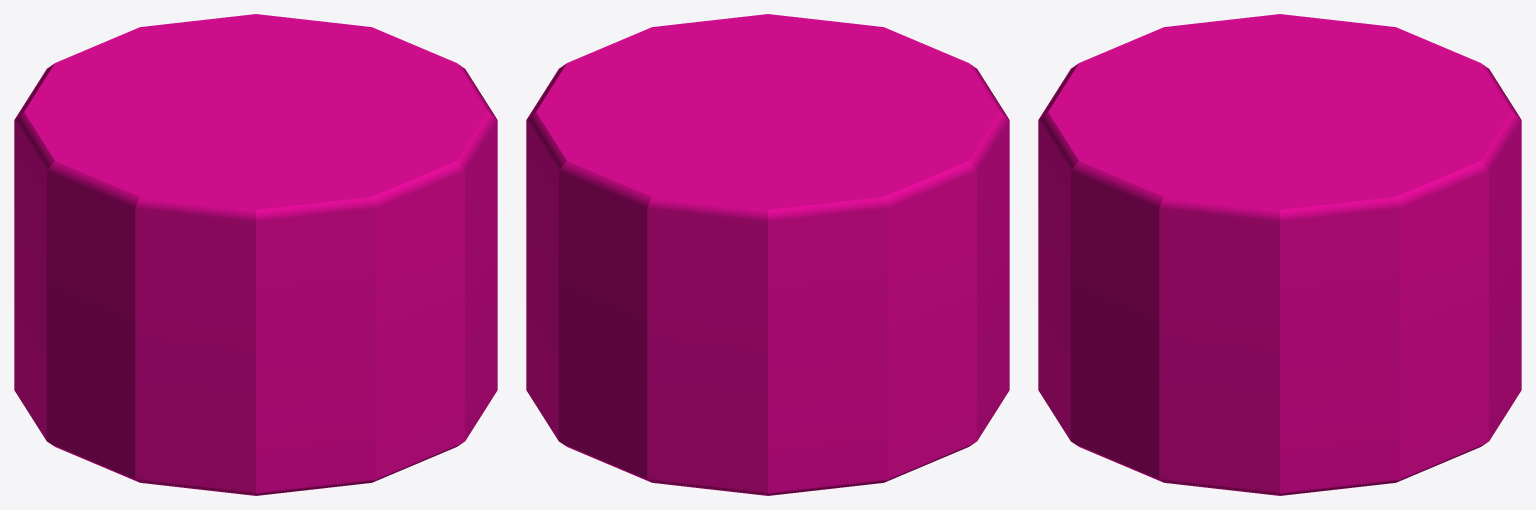
Rendered from Hotplate_Button_01.fbx.
The picture shows the model from 3 angles, left to right: view 1: azimuth 30°, elevation 25°; view 2: azimuth 150°, elevation 25°; view 3: azimuth 270°, elevation 25°; orthographic projection.
Parts seen in each view (by area): view 1: Hotplate_Button_01; view 2: Hotplate_Button_01; view 3: Hotplate_Button_01.
Boxes of the visible parts, x1,y1,x2,y2 form: Hotplate_Button_01: (14,14,497,495); Hotplate_Button_01: (526,14,1009,495); Hotplate_Button_01: (1038,14,1521,495).
Bounding box in the file's own units: 24.4 × 15.94 × 24.4.
